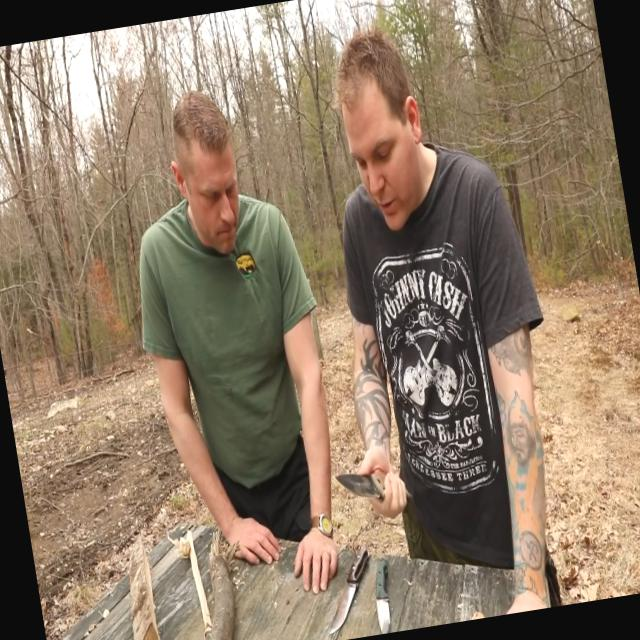knife: (322, 440, 414, 530)
